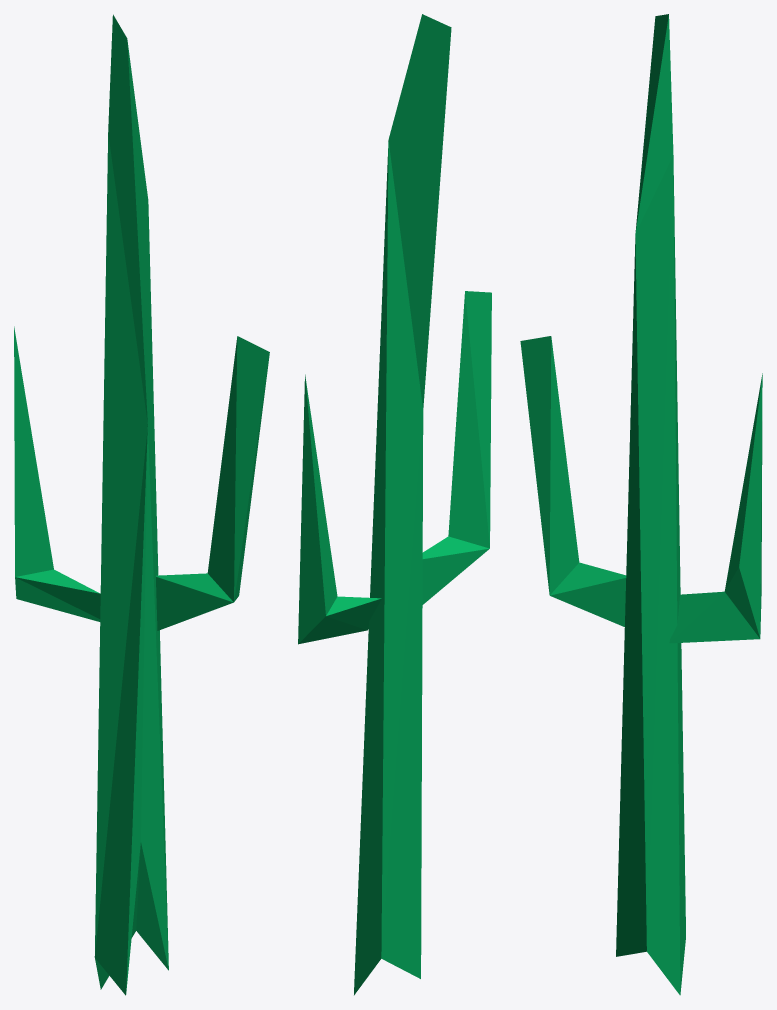
The model's file is SeguaroCactusLarge2_LOD3.fbx.
3 views of the same model, side by side, from view 1: azimuth 90°, elevation 25°; view 2: azimuth 150°, elevation 25°; view 3: azimuth 270°, elevation 25° (orthographic). The views are drawn at different scales.
Visible parts, largest first — view 1: SeguaroCactusLarge2_LOD3; view 2: SeguaroCactusLarge2_LOD3; view 3: SeguaroCactusLarge2_LOD3.
Boxes of the visible parts, x1,y1,x2,y2 form: SeguaroCactusLarge2_LOD3: (14, 14, 269, 995); SeguaroCactusLarge2_LOD3: (298, 14, 491, 995); SeguaroCactusLarge2_LOD3: (520, 14, 762, 995).
Bounding box in the file's own units: 129 × 560 × 61.97.
